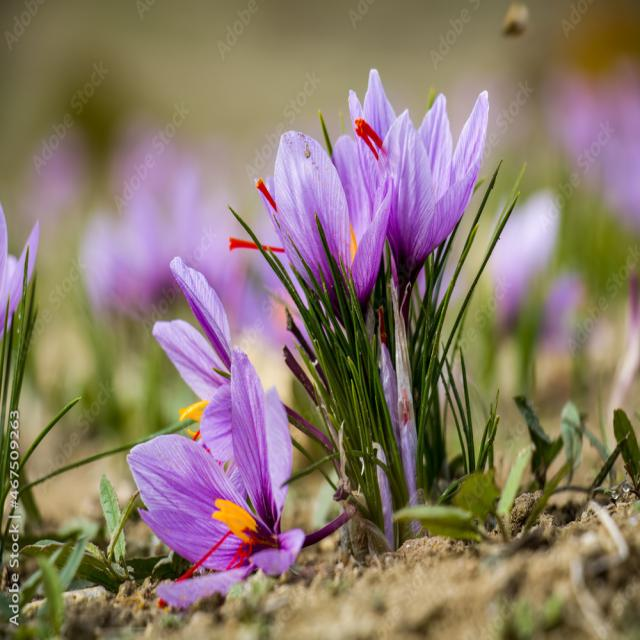saffron open: (128, 349, 305, 607), (349, 69, 489, 317), (269, 131, 391, 307)
